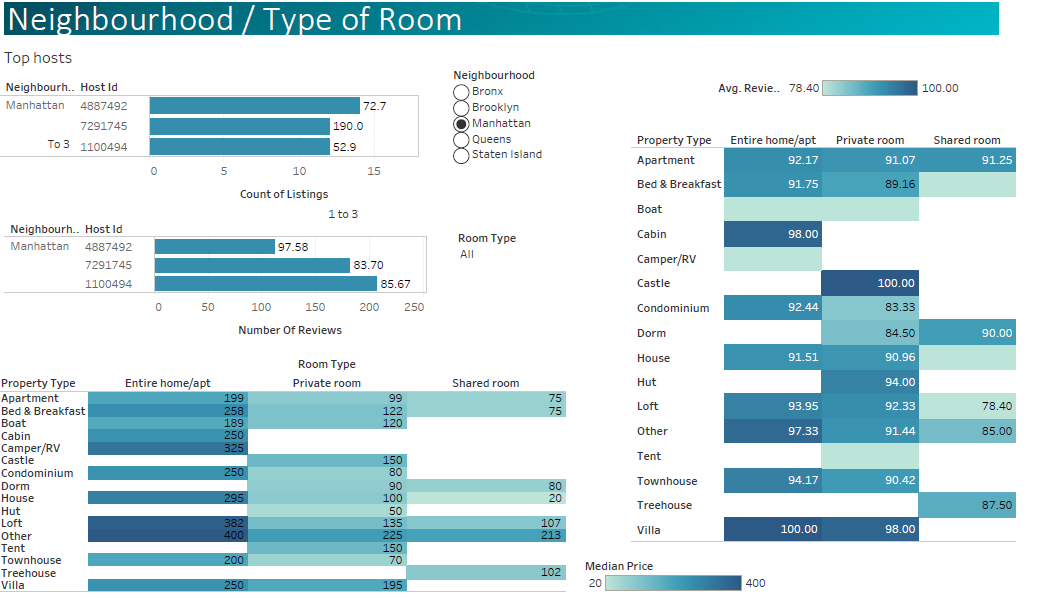

Layout of this report page (visuals, bound fields, positions):
{"tool":"tableau","page":{"name":"Dashboard 5","canvas":[1000,1000],"units":"permille","ordinal":2},"visuals":[{"type":"text","box":[16.7,8.6,552.2,52.6]},{"type":"image","param":"C:/Users/asmaa/OneDrive/Desktop/LHL/Projects/Project3/Core pages.png","box":[16.7,9.8,902,51.3]},{"type":"worksheet","title":"Top Host /listing","mark":"Automatic","rows":["Neighbourhood","Host Id"],"cols":["Sheet1_1648BBF710C04A31AE966F43C19BCB7B"],"box":[12.8,72.1,363.4,270.2]},{"type":"filter","title":"Top Host /listing","param":"[federated.1dx408e0g5map71gjf5d201qi953].[none:Neighbourhood:nk]","box":[404.8,112.5,133.9,217.6]},{"type":"legend","title":"Rating Room/Property type","param":"[federated.1dx408e0g5map71gjf5d201qi953].[avg:Review Scores Rating:qk]","box":[634.3,128.4,212.8,46.5]},{"type":"worksheet","title":"Rating Room/Property type","mark":"Square","rows":["Property Type"],"cols":["Room Type"],"box":[559.4,183.4,333.1,694.4]},{"type":"filter","title":"Top Host /listing","param":"[federated.1dx408e0g5map71gjf5d201qi953].[usr:Calculation_1635932585711472640:qk","box":[51.8,224.9,78.1,70.9]},{"type":"filter","title":"Top Host /reviews","param":"[federated.1dx408e0g5map71gjf5d201qi953].[usr:Calculation_1635932585711472640:qk","box":[294.8,336.2,78.1,66]},{"type":"worksheet","title":"Top Host /reviews","mark":"Automatic","rows":["Neighbourhood","Host Id"],"cols":["Number Of Reviews"],"box":[16.7,357,365.7,204.2]},{"type":"filter","title":"Price Room/property type","param":"[federated.1dx408e0g5map71gjf5d201qi953].[none:Room Type:nk]","box":[409.6,374.1,139.4,174.8]},{"type":"worksheet","title":"Price Room/property type","mark":"Square","rows":["Property Type"],"cols":["Room Type"],"box":[9,575,494,381.2]},{"type":"legend","title":"Price Room/property type","param":"[federated.1dx408e0g5map71gjf5d201qi953].[med:Price:qk]","box":[518.7,894.9,161,70.9]}]}

Visuals, with their boxes on the dashboard's canvas, which has no fixed pixel size, in thousandths of its width and height (x1, y1, x2, y2). These are canvas units, not pixel positions in the 1042x598 screenshot, which may show the page scaled, cropped or inside an application window:
text: bbox(17, 9, 569, 61)
image: bbox(17, 10, 919, 61)
"Top Host /listing" worksheet: bbox(13, 72, 376, 342)
"Top Host /listing" filter: bbox(405, 112, 539, 330)
"Rating Room/Property type" legend: bbox(634, 128, 847, 175)
"Rating Room/Property type" worksheet (Square marks): bbox(559, 183, 892, 878)
"Top Host /listing" filter: bbox(52, 225, 130, 296)
"Top Host /reviews" filter: bbox(295, 336, 373, 402)
"Top Host /reviews" worksheet: bbox(17, 357, 382, 561)
"Price Room/property type" filter: bbox(410, 374, 549, 549)
"Price Room/property type" worksheet (Square marks): bbox(9, 575, 503, 956)
"Price Room/property type" legend: bbox(519, 895, 680, 966)
